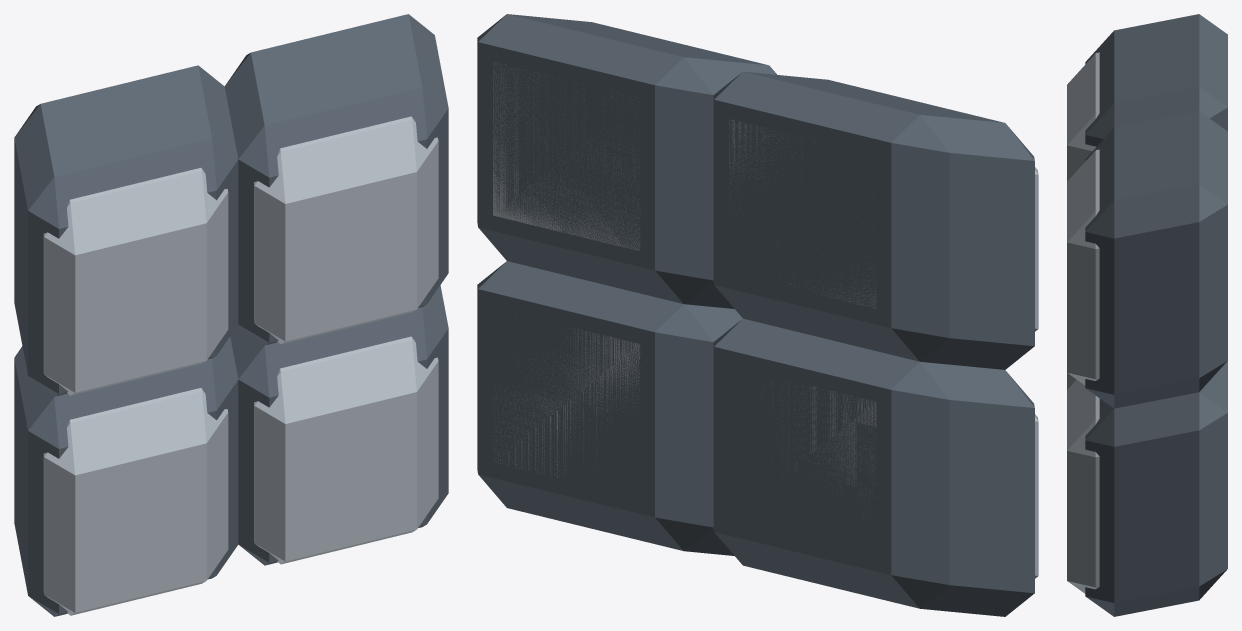
The model's file is Terrain_Block2x2.gltf.
3 renders of one model, left to right at view 1: azimuth 30°, elevation 25°; view 2: azimuth 150°, elevation 25°; view 3: azimuth 270°, elevation 25°, orthographic. The views are drawn at different scales.
Parts seen in each view (by area): view 1: Terrain_Block2x2_baked; view 2: Terrain_Block2x2_baked; view 3: Terrain_Block2x2_baked.
Boxes of the visible parts, x1,y1,x2,y2 form: Terrain_Block2x2_baked: (14,14,448,616); Terrain_Block2x2_baked: (477,14,1038,616); Terrain_Block2x2_baked: (1067,14,1227,616).
Bounding box in the file's own units: 2.15 × 2.15 × 0.7.
